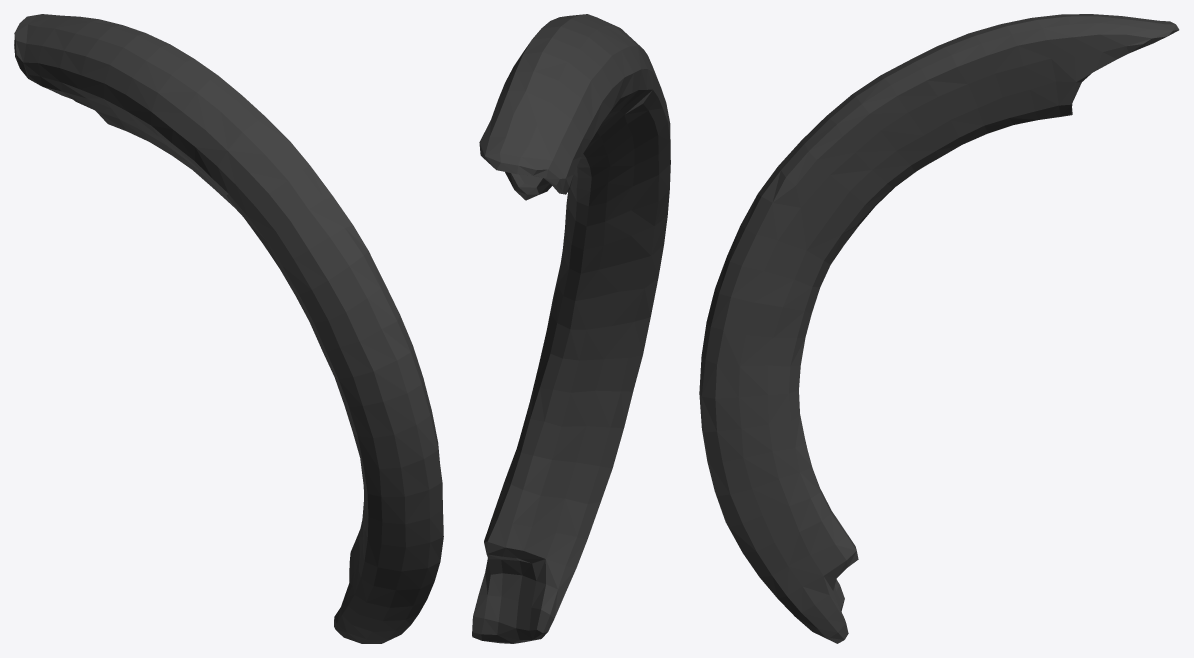
The model's file is Incisor_top.glb.
3 views of the same model, side by side, from view 1: azimuth 30°, elevation 25°; view 2: azimuth 150°, elevation 25°; view 3: azimuth 270°, elevation 25° (orthographic). The views are drawn at different scales.
Parts seen in each view (by area): view 1: Incisor_top; view 2: Incisor_top; view 3: Incisor_top.
Part boxes in pixels (<box>): Incisor_top: <box>14,14,443,643</box>; Incisor_top: <box>472,14,670,643</box>; Incisor_top: <box>699,14,1179,643</box>.
Bounding box in the file's own units: 0.5388 × 1.31 × 1.03.
1 material, 1 textured.
